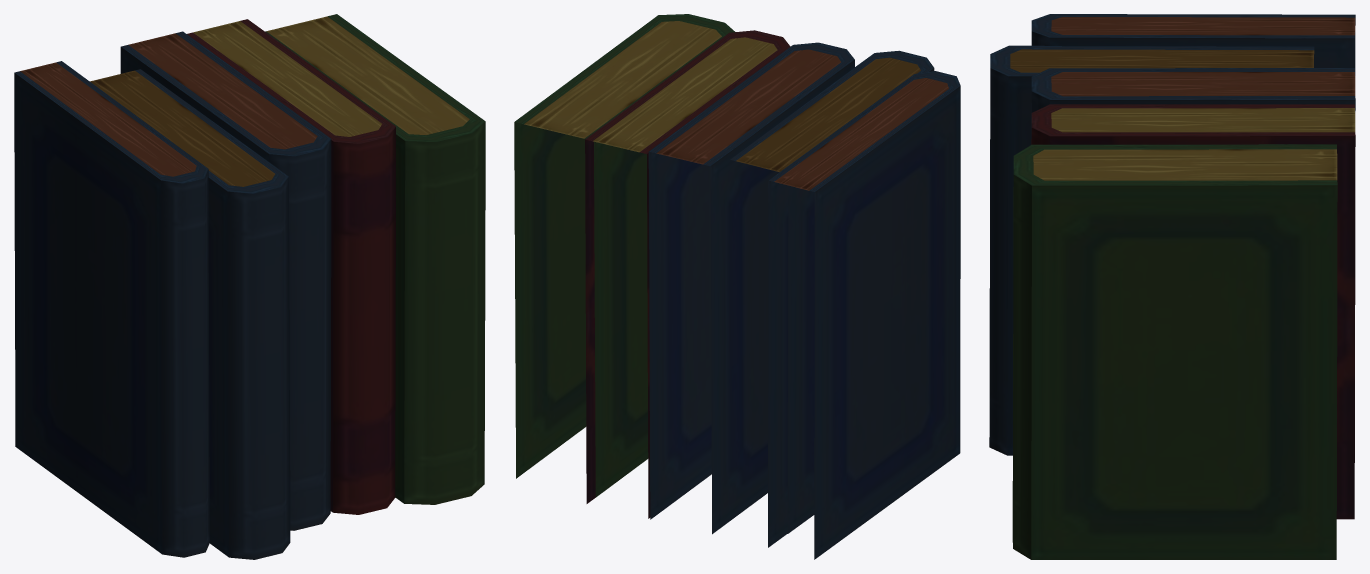
The model's file is BookGroup_Small_3.gltf.
3 views of the same model, side by side, from view 1: azimuth 30°, elevation 25°; view 2: azimuth 150°, elevation 25°; view 3: azimuth 270°, elevation 25° (orthographic). The views are drawn at different scales.
Visible parts, largest first — view 1: BookGroup_Small_3; view 2: BookGroup_Small_3; view 3: BookGroup_Small_3.
Boxes of the visible parts, bbox=[...] form: BookGroup_Small_3: bbox=[14, 14, 485, 559]; BookGroup_Small_3: bbox=[514, 14, 960, 559]; BookGroup_Small_3: bbox=[989, 14, 1355, 559].
Size of the model in its own units: 0.2448 by 0.2774 by 0.2372.
1 material, 1 textured.
